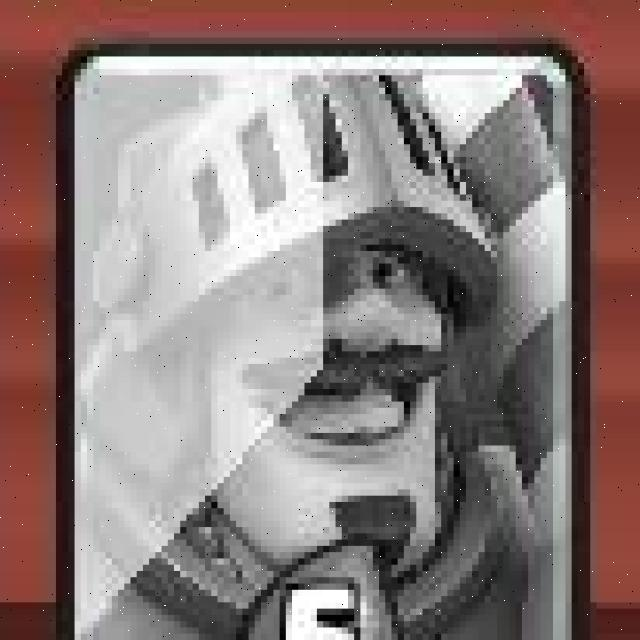Prince: (58, 46, 593, 640)
